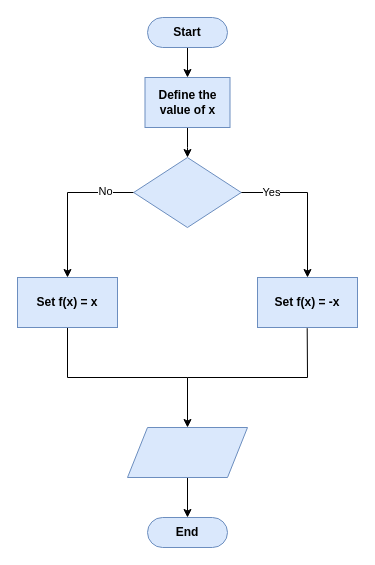
Some shapes in this 375 by 565 pixel diagram are drawn without their labels. Each missing label, with the centre of its shape:
is x < 0?: [187,192]
Print f(x): [187,452]
